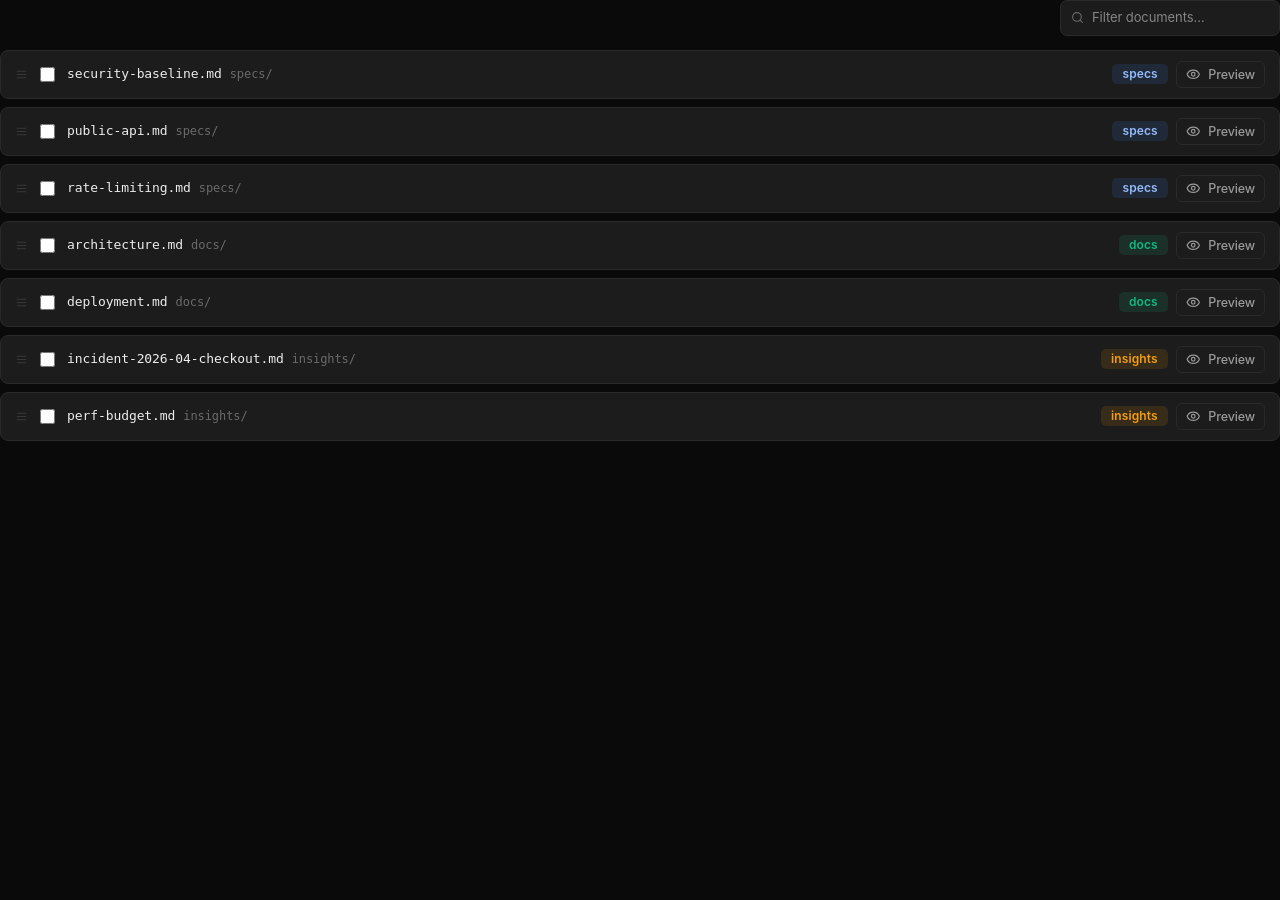
Test: AttachmentEditor — the preview dialog › shows an error inside the dialog when the document cannot be read
Step 1. Click the button "Preview" in the row of "public-api.md" → click(1220, 131), box [1176,118,1265,144]
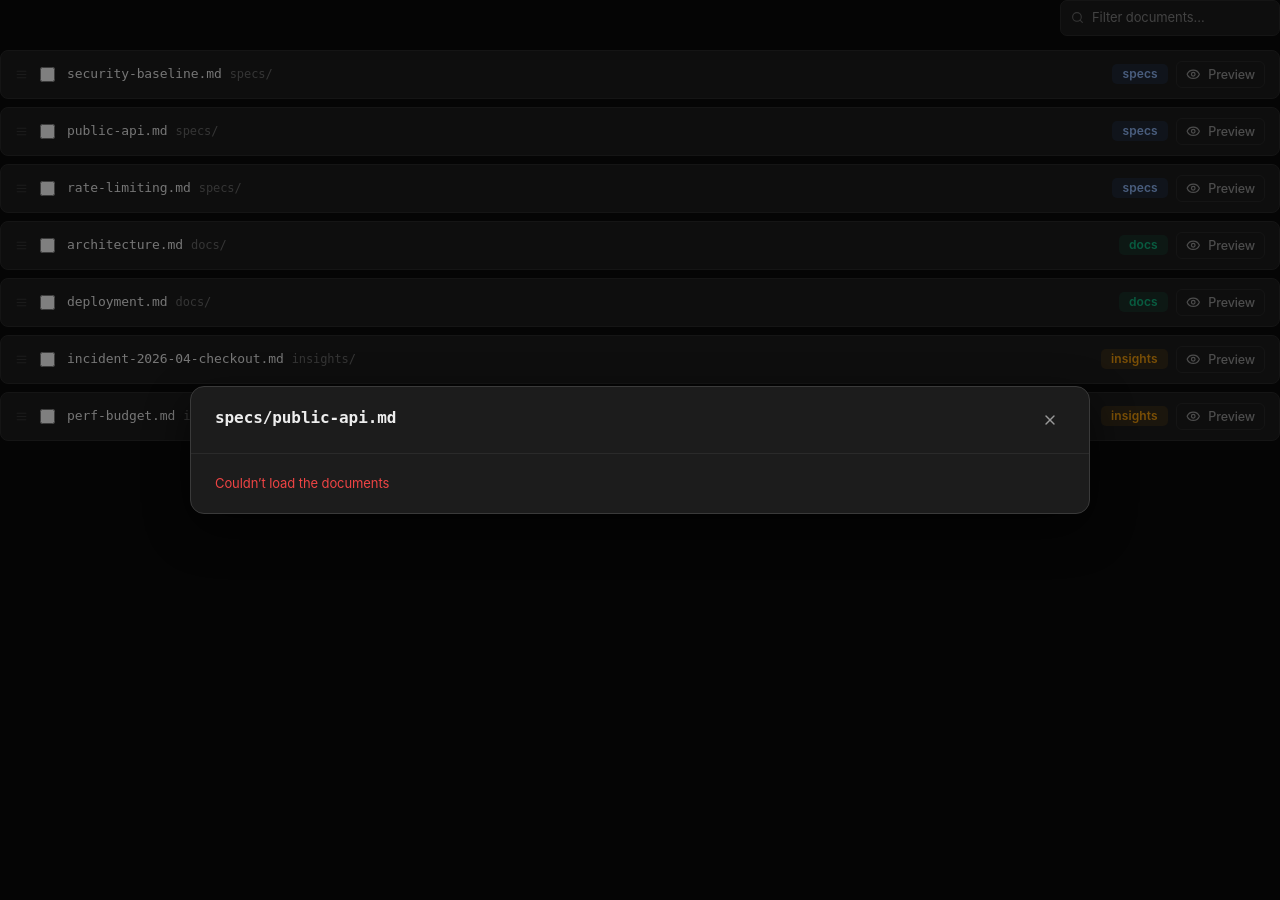
Check: the message reads "Couldn’t load the documents", box [215,475,389,491]
